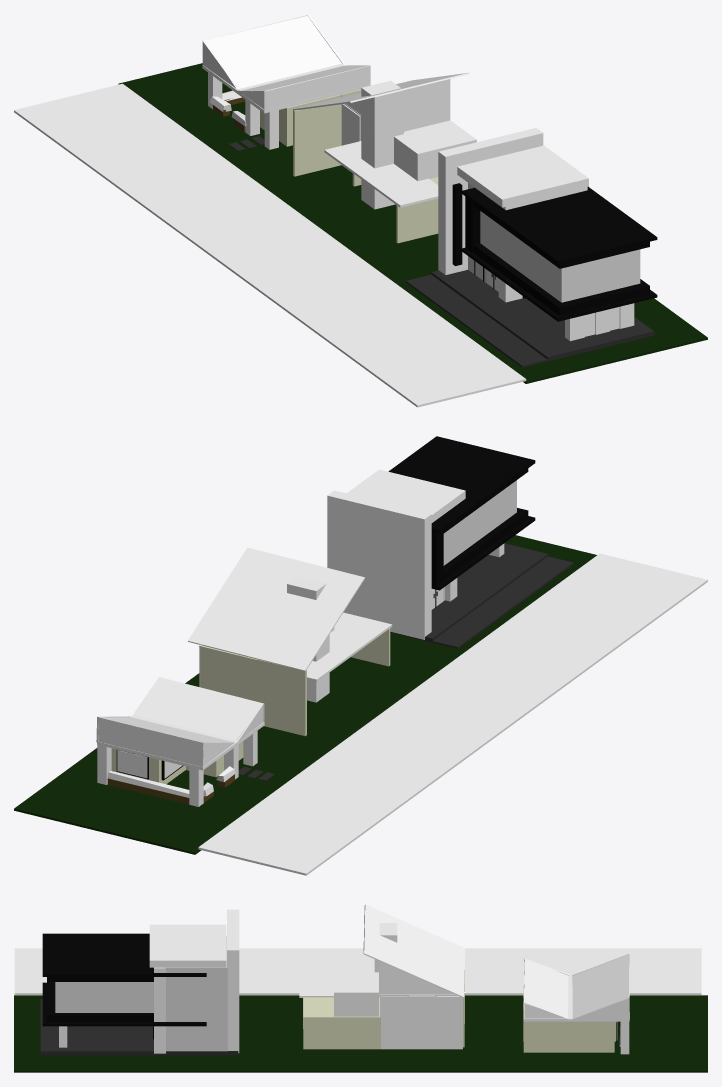
Rendered from house.glb.
3 views of the same model, one above another, from view 1: azimuth 30°, elevation 25°; view 2: azimuth 150°, elevation 25°; view 3: azimuth 270°, elevation 25° (orthographic). The views are drawn at different scales.
Parts seen in each view (by area): view 1: Cube.034, Cube.056, Cube.064, Cube.007, Cube.074, Cube.061, Cube.059, Cube.057, Cube.042, Cube.075, Cube.045, Cube.040 (+15 smaller); view 2: Cube.034, Cube.056, Cube.044, Cube.057, Cube.064, Cube.005, Cube.074, Cube.075, Cube.045, Cube.059, Cube.008, Cube.055 (+11 smaller); view 3: Cube.056, Cube.034, Cube.064, Cube.058, Cube.044, Cube.059, Cube.074, Cube.036, Cube.061, Cube.002, Cube.007, Cube.049 (+18 smaller).
Part boxes in pixels (x1,y1,x2,y2): Cube.034: [14, 83, 526, 407]; Cube.056: [118, 63, 707, 383]; Cube.064: [461, 186, 657, 263]; Cube.007: [204, 15, 341, 89]; Cube.074: [431, 270, 653, 360]; Cube.061: [480, 211, 640, 302]; Cube.059: [457, 145, 588, 207]; Cube.057: [438, 128, 543, 275]; Cube.042: [361, 80, 403, 209]; Cube.075: [406, 274, 654, 367]; Cube.045: [293, 104, 341, 176]; Cube.040: [324, 141, 438, 207]; Cube.034: [198, 553, 707, 875]; Cube.056: [14, 535, 596, 854]; Cube.044: [188, 547, 364, 671]; Cube.057: [327, 490, 431, 639]; Cube.064: [388, 436, 535, 532]; Cube.005: [132, 677, 263, 740]; Cube.074: [390, 543, 547, 642]; Cube.075: [432, 556, 573, 648]; Cube.045: [257, 659, 306, 736]; Cube.059: [347, 469, 465, 522]; Cube.008: [98, 717, 203, 766]; Cube.055: [200, 645, 257, 701]; Cube.056: [14, 995, 707, 1072]; Cube.034: [14, 948, 701, 994]; Cube.064: [42, 933, 206, 976]; Cube.058: [165, 936, 227, 1051]; Cube.044: [363, 904, 465, 997]; Cube.059: [149, 924, 226, 967]; Cube.074: [40, 1007, 238, 1053]; Cube.036: [303, 997, 380, 1049]; Cube.061: [55, 982, 153, 1012]; Cube.002: [523, 1009, 614, 1052]; Cube.007: [572, 954, 629, 1018]; Cube.049: [334, 968, 378, 1016].
Size of what is drawn, in the model's own units: 58.55 by 24.37 by 142.
